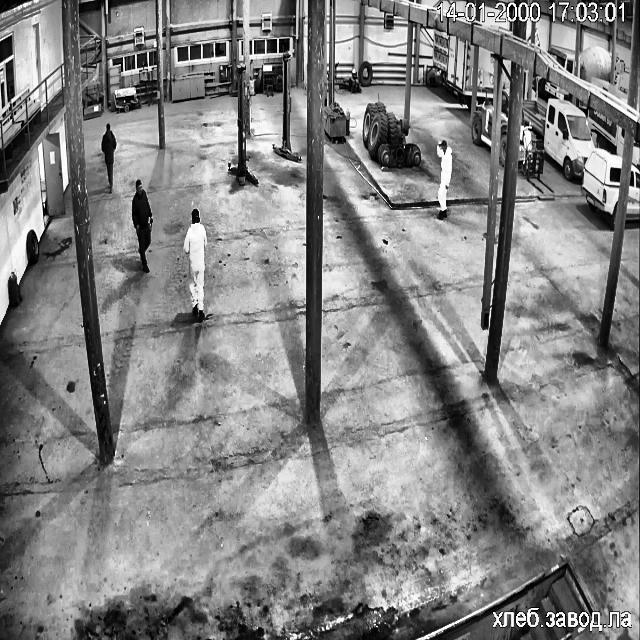car lift: (228, 64, 257, 185), (275, 52, 300, 161)
fire extinguisher: (8, 272, 21, 306)
guest: (131, 183, 153, 271), (102, 127, 117, 183)
mechanic: (184, 209, 206, 322), (132, 180, 152, 272), (437, 140, 452, 219), (101, 124, 116, 192)
truck: (524, 99, 593, 179), (433, 28, 474, 107), (581, 148, 620, 228), (588, 108, 624, 156), (518, 118, 543, 178), (472, 98, 496, 147), (476, 46, 493, 100), (592, 78, 627, 103), (626, 165, 640, 218), (548, 46, 574, 73), (499, 89, 508, 164), (536, 76, 564, 100), (632, 141, 640, 164), (504, 60, 510, 80), (535, 31, 540, 44), (492, 26, 508, 30), (505, 61, 509, 68), (528, 28, 530, 36), (506, 82, 508, 84), (504, 82, 506, 84), (473, 106, 475, 108)
